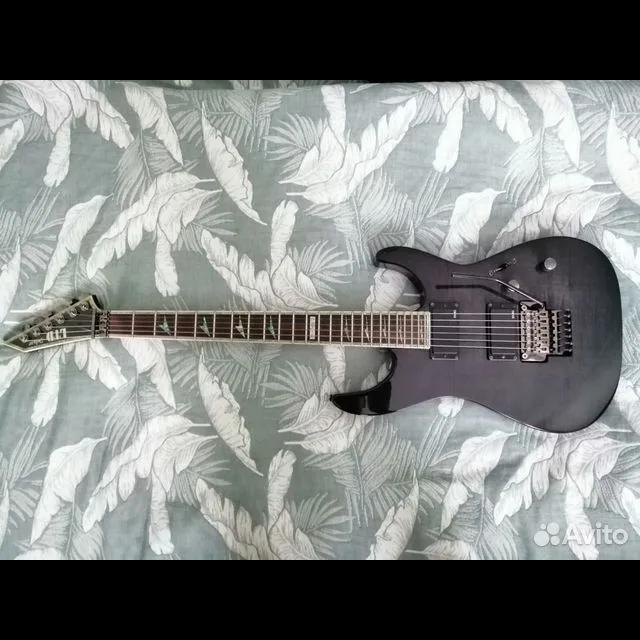Electric-Guitar: (0, 238, 622, 432)
